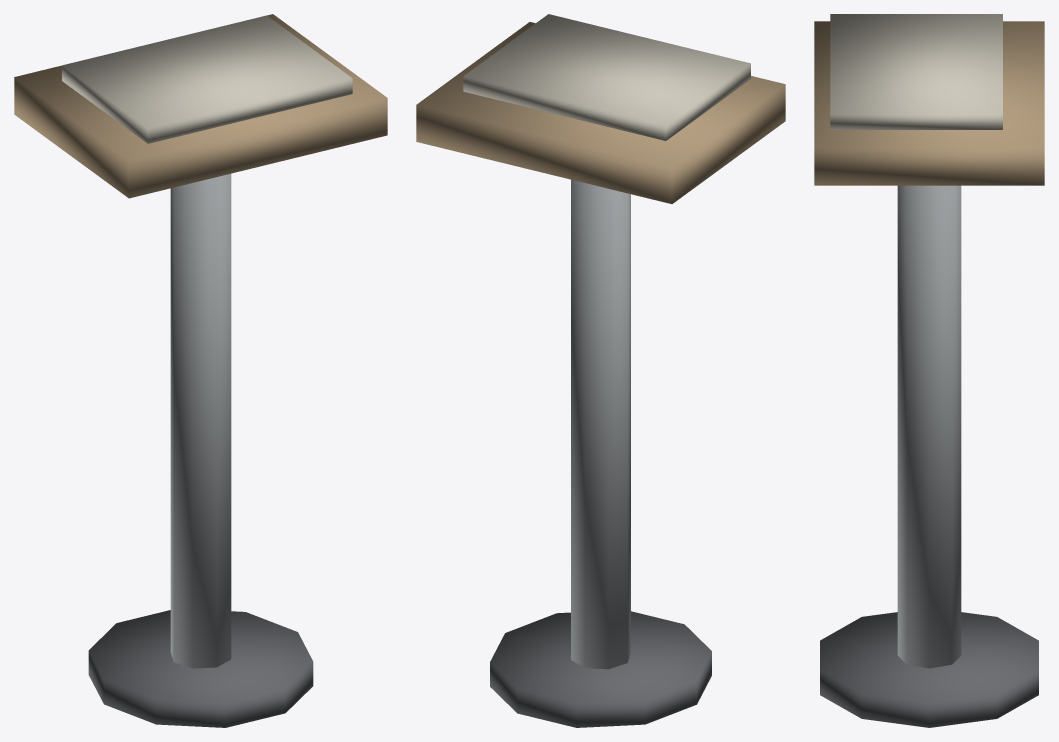
The model's file is memorial_plaque_stand__compact.glb.
3 renders of one model, left to right at view 1: azimuth 30°, elevation 25°; view 2: azimuth 150°, elevation 25°; view 3: azimuth 270°, elevation 25°, orthographic.
Parts seen in each view (by area): view 1: world; view 2: world; view 3: world.
Boxes of the visible parts, bbox=[...] form: world: bbox=[14, 14, 387, 727]; world: bbox=[416, 14, 785, 727]; world: bbox=[814, 14, 1044, 727].
Bounding box in the file's own units: 0.4032 × 0.9137 × 0.3096.
